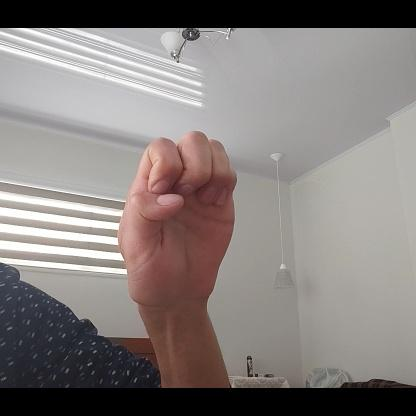E: (117, 128, 238, 307)
